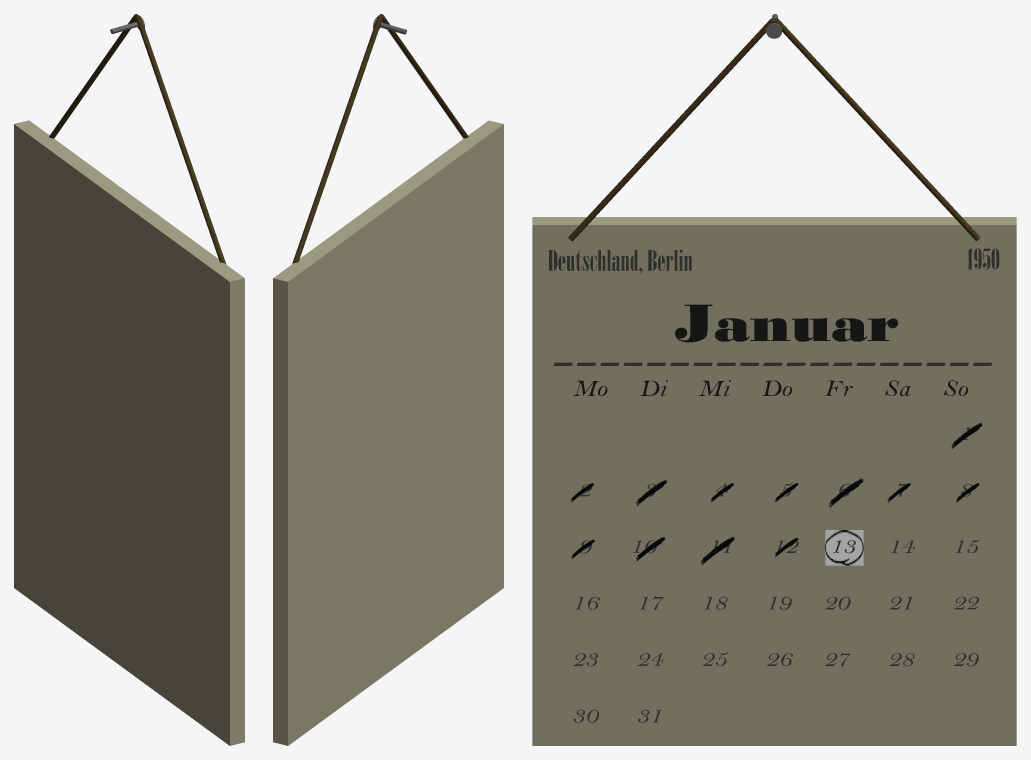
The model's file is Kalender.fbx.
3 views of the same model, side by side, from view 1: azimuth 30°, elevation 25°; view 2: azimuth 150°, elevation 25°; view 3: azimuth 270°, elevation 25° (orthographic). The views are drawn at different scales.
Parts seen in each view (by area): view 1: Cube, Cylinder.001; view 2: Cube, Cylinder.001; view 3: Cube, Cylinder.001, miauw.002, miauw.005, miauw, miauw.003, isolated-circle, miauw.004.
Boxes of the visible parts, box(x1,y1,x2,y2) form: Cube: box(14, 120, 244, 745); Cylinder.001: box(49, 14, 226, 264); Cube: box(273, 120, 503, 745); Cylinder.001: box(292, 14, 468, 263); Cube: box(532, 217, 1016, 745); Cylinder.001: box(568, 18, 980, 241); miauw.002: box(675, 304, 897, 342); miauw.005: box(573, 427, 979, 722); miauw: box(548, 250, 691, 274); miauw.003: box(553, 362, 991, 365); isolated-circle: box(825, 530, 863, 565); miauw.004: box(573, 380, 967, 396).
Bounding box in the file's own units: 0.1437 × 1.81 × 2.99.
